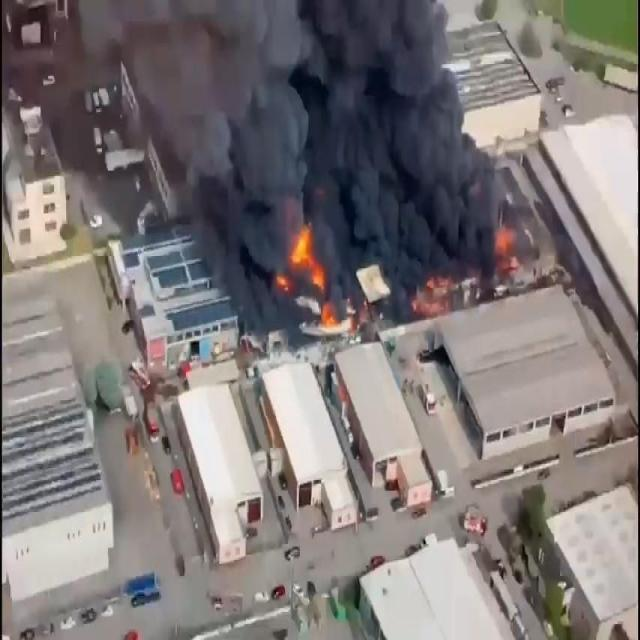smoke: (52, 0, 500, 200)
